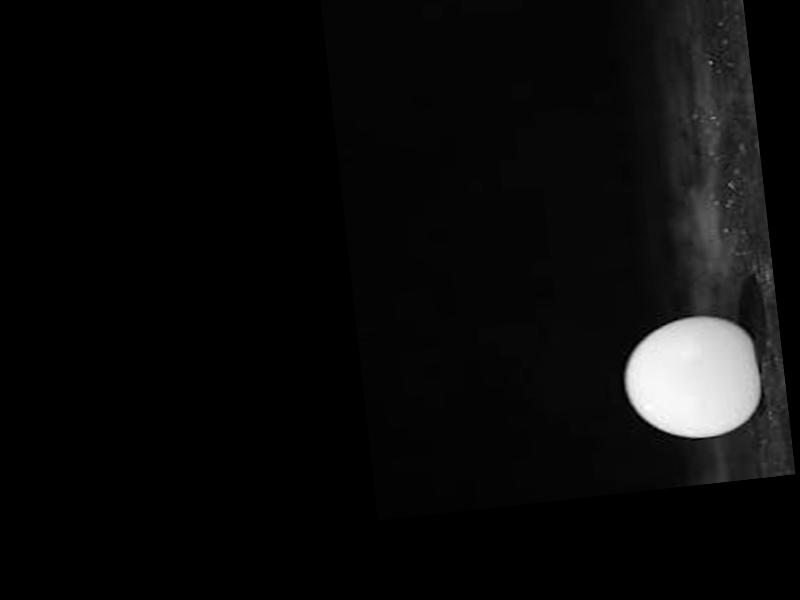Eggs: (618, 309, 763, 445)
